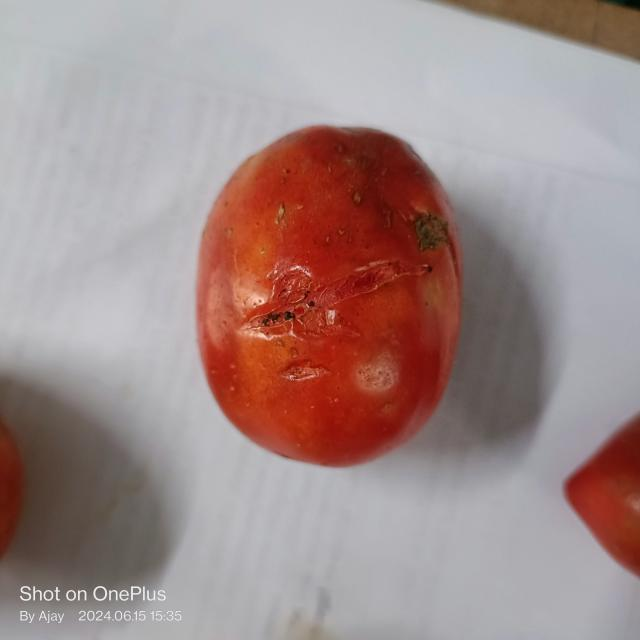Botrytis: (243, 290, 322, 336), (334, 262, 396, 298), (414, 210, 451, 255)
